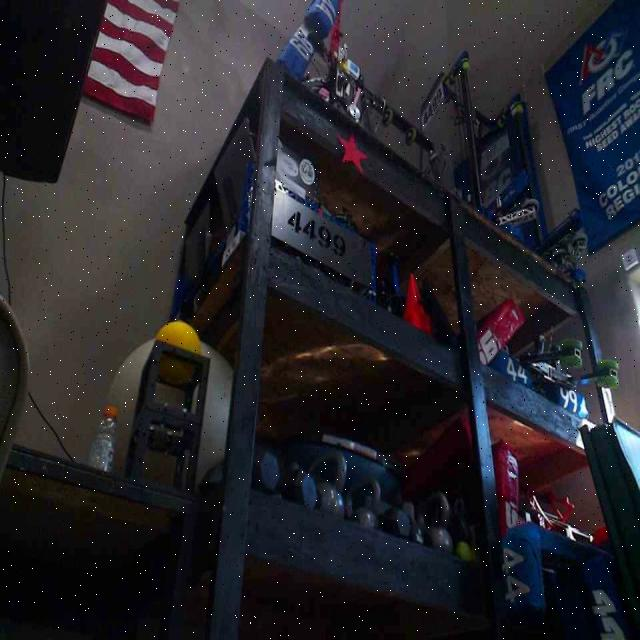star_red: (337, 132, 368, 172)
